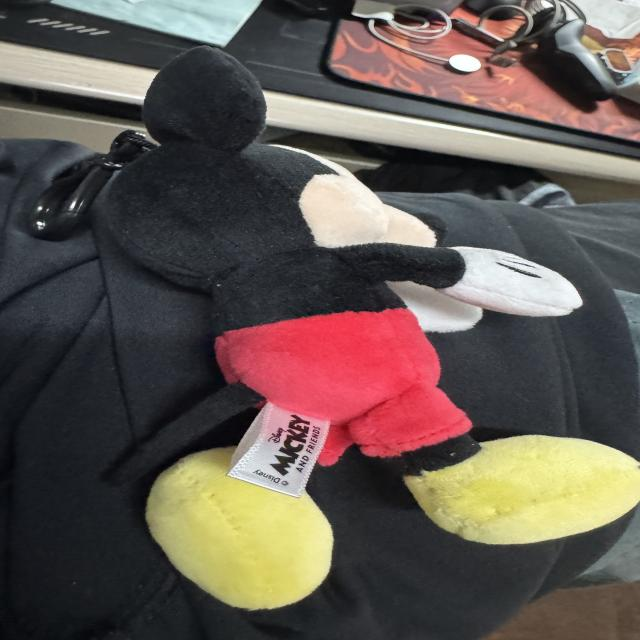mickey: (107, 47, 639, 544)
